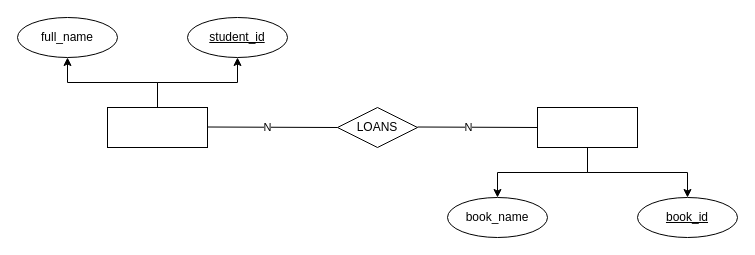
The diagram is 755 pixels wide and 255 high, and some of its shapes have lost their labels. Here are the shapes that lost their labels. From the top down, the centre of each, then its label:
At point 157,127: "STUDENTS".
At point 587,127: "BOOKS".
